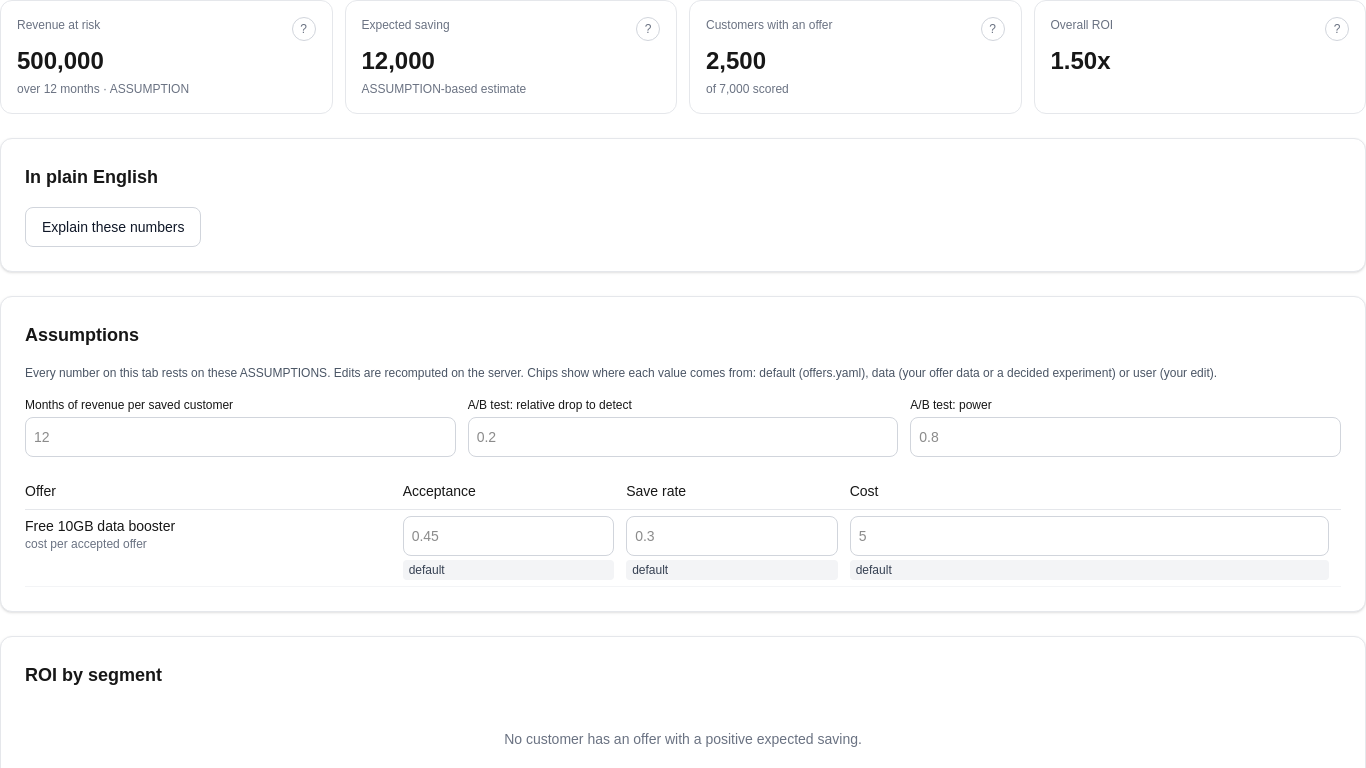
Test: BusinessImpactTab › recomputes on the server after an edit and flags the explanation as stale
Expected: the text "500,000" is shown, [17,47,104,74]
Step 1. Click the button "Explain these numbers" → click(113, 227), box [25,207,201,247]
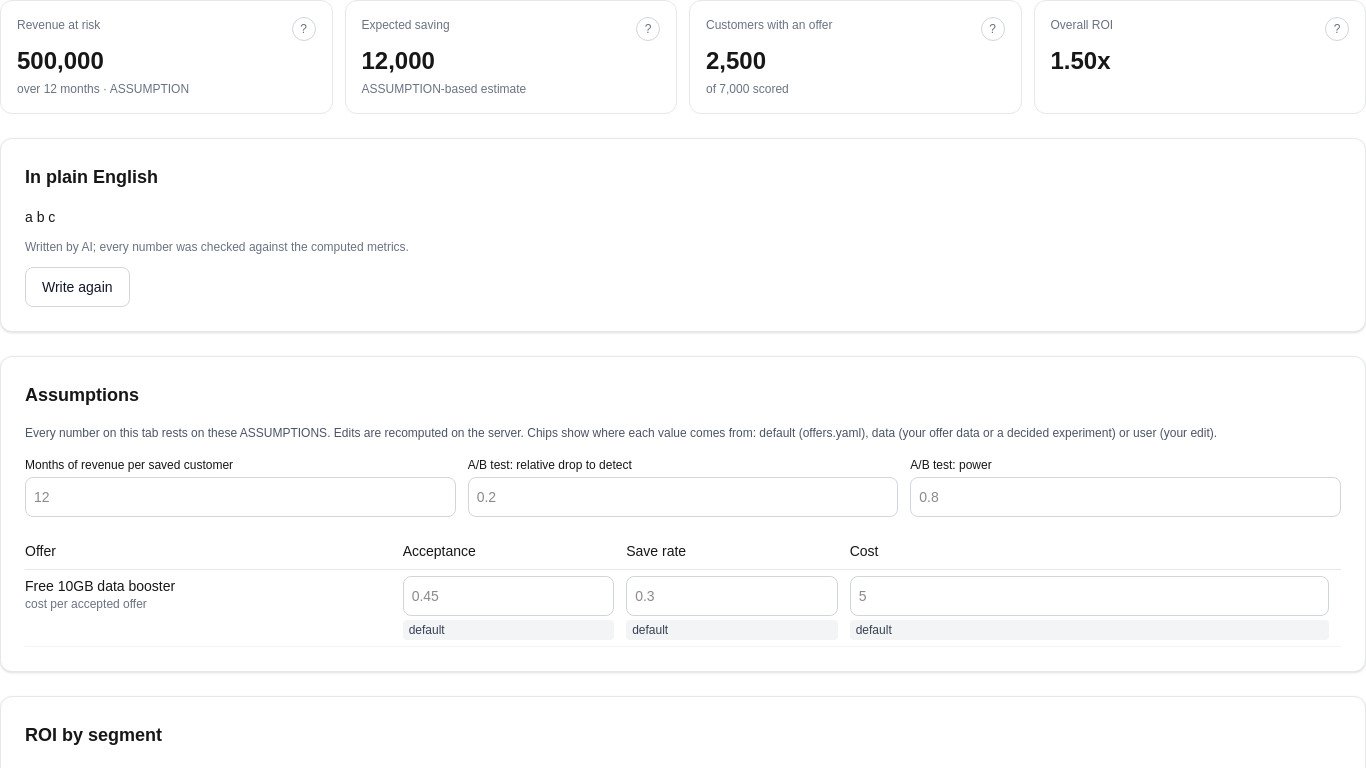
Now the text "a b c" is shown, box [25,209,55,225]
Step 2. Type "24" into the number field labelled "Months of revenue per saved customer" → (240, 497), box [25,477,456,517]
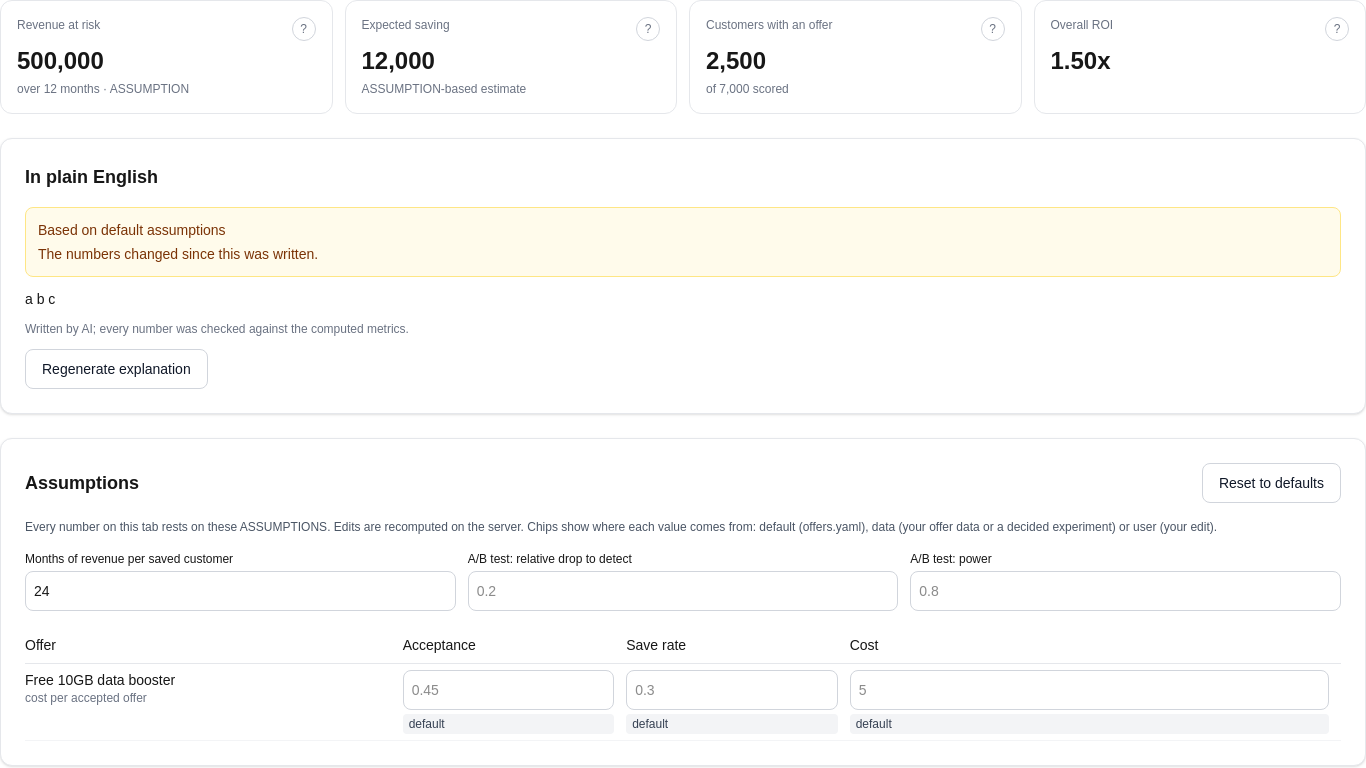
Now the text "Based on default assumptions" is shown, box [38,222,226,238]
Now the button "Regenerate explanation" is shown, box [25,349,208,389]
